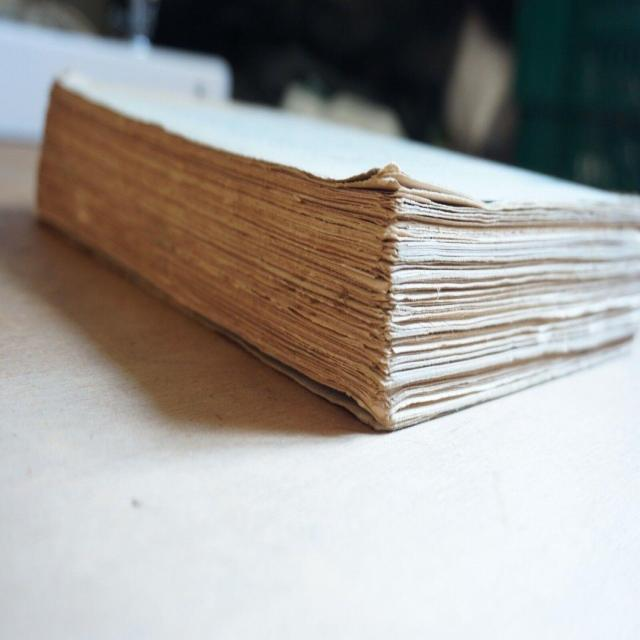paper: (34, 68, 640, 434)
